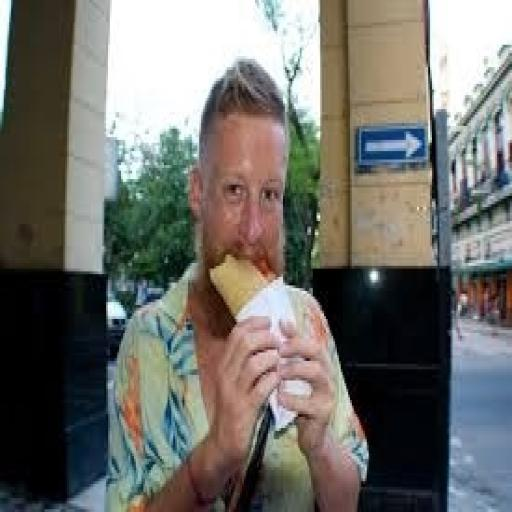eating: (102, 53, 372, 509)
